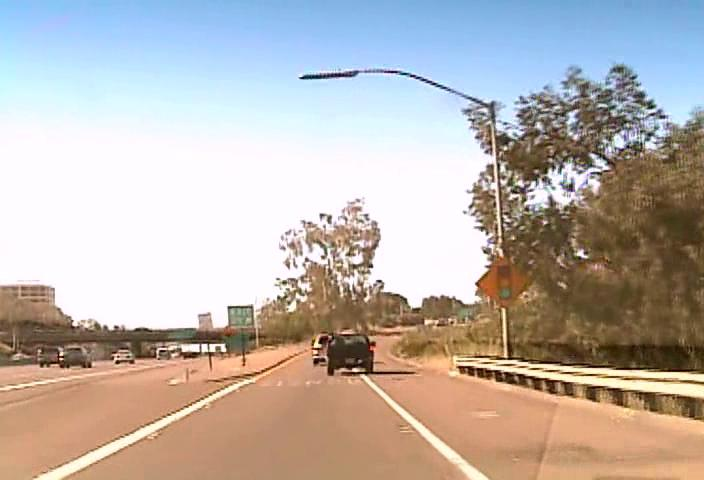signalAhead: (474, 254, 532, 308)
